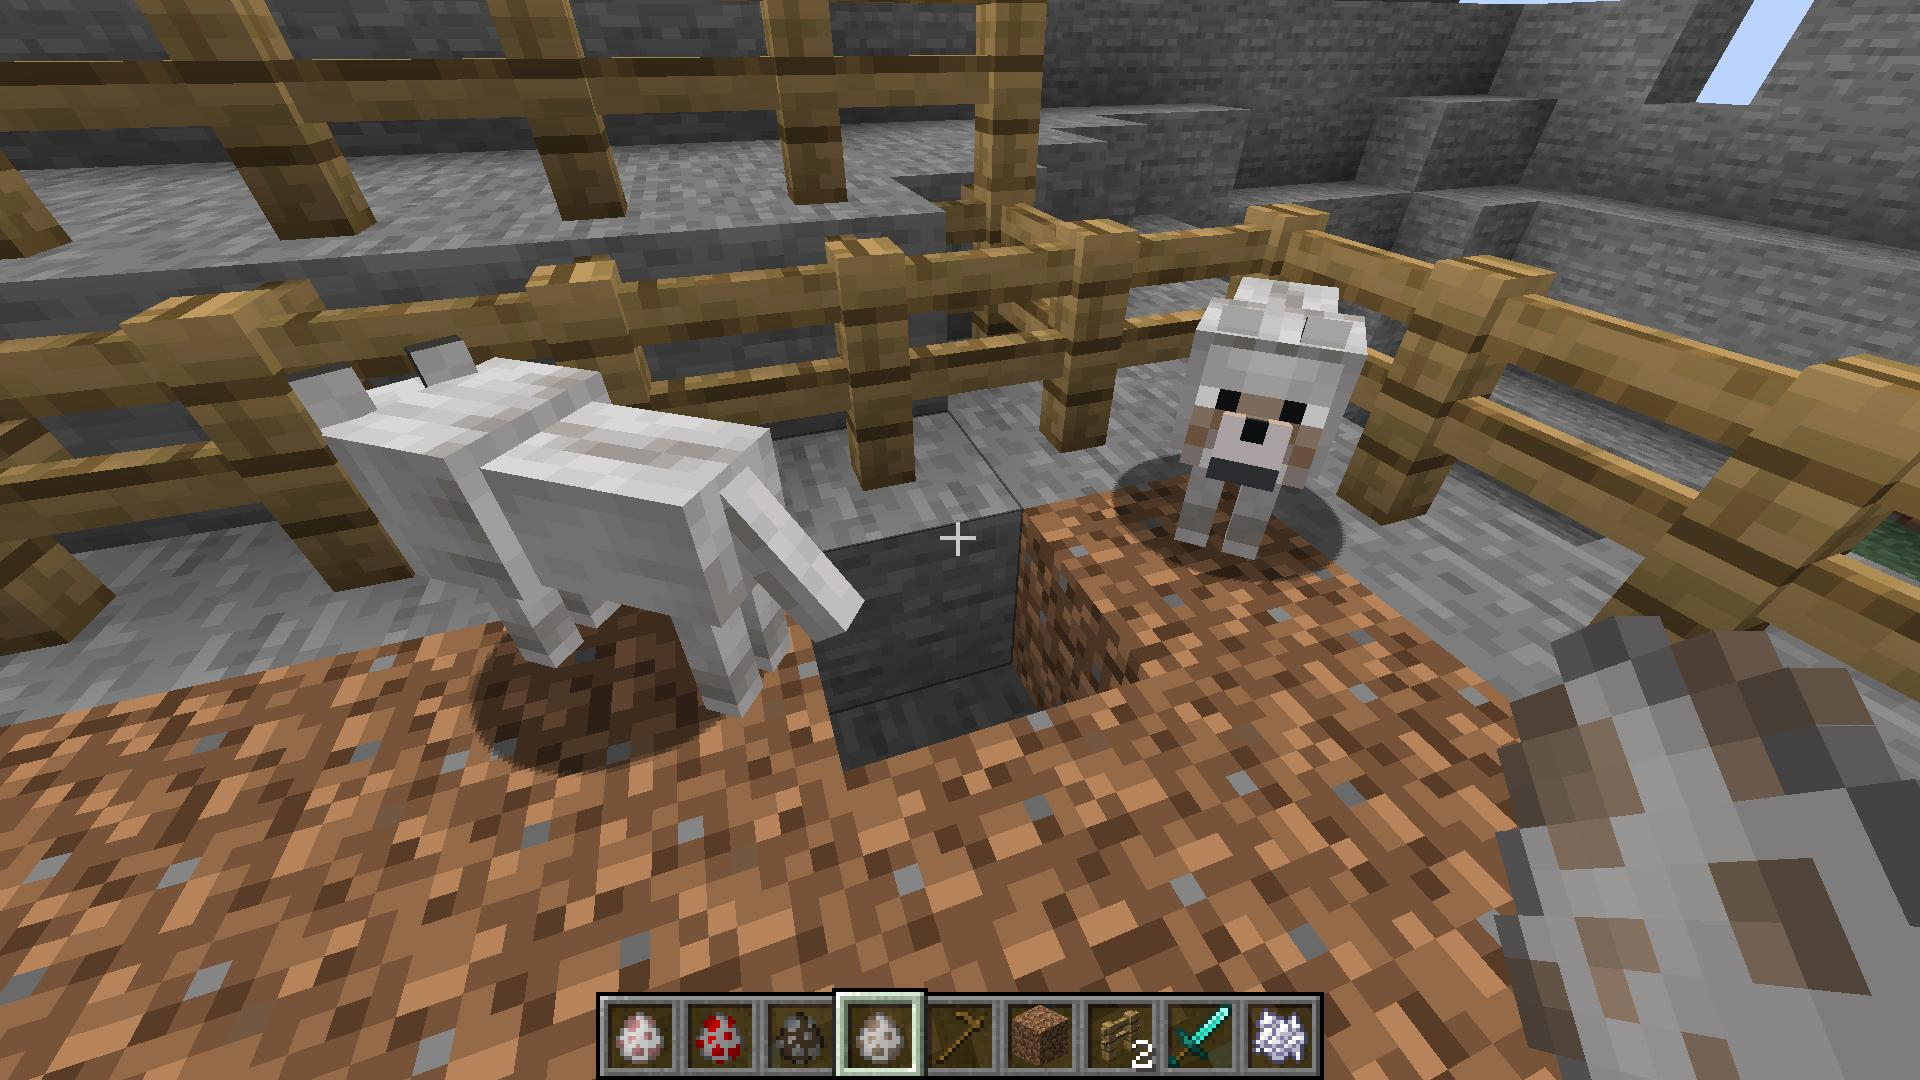wolf: (278, 326, 868, 724), (1170, 256, 1379, 567)
